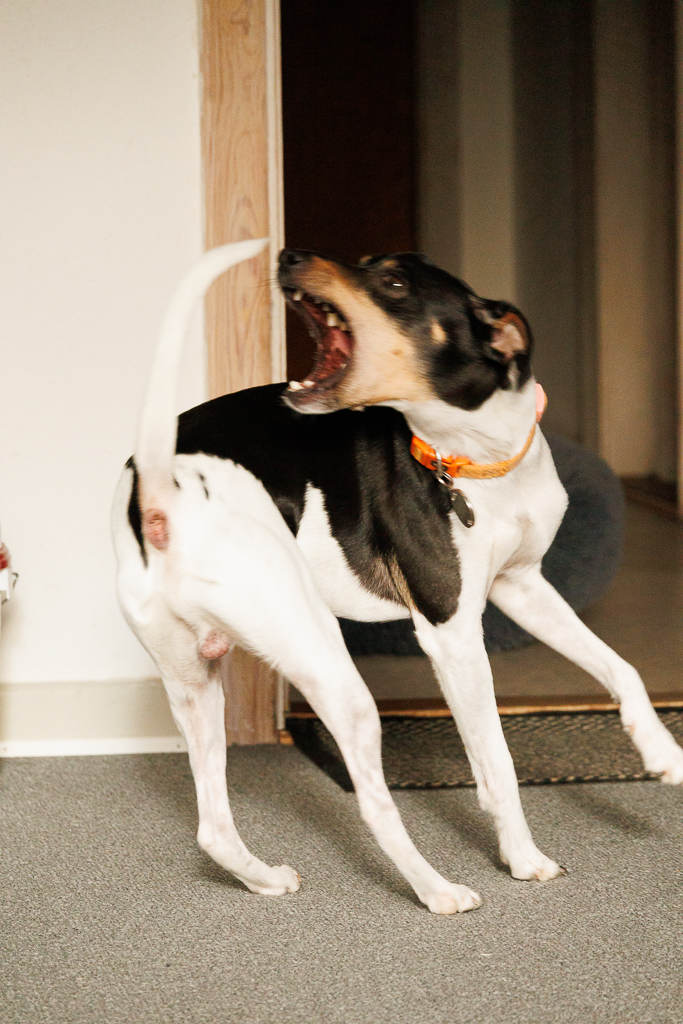Dog: (89, 228, 683, 926)
